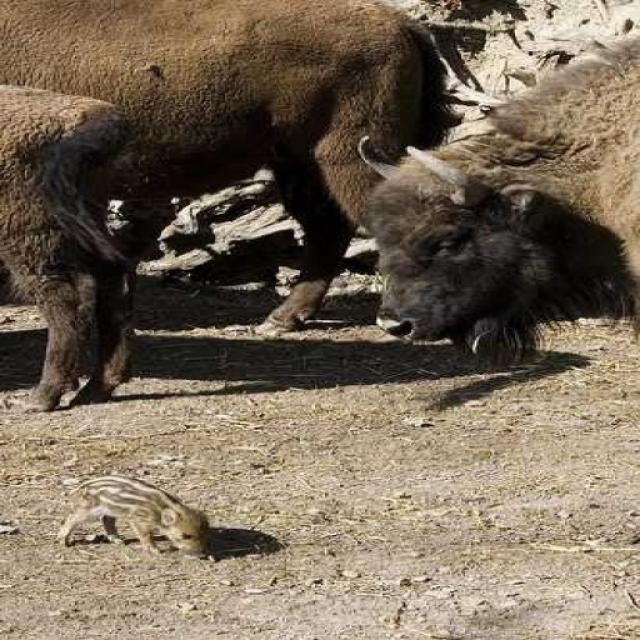pig: (320, 26, 640, 434)
